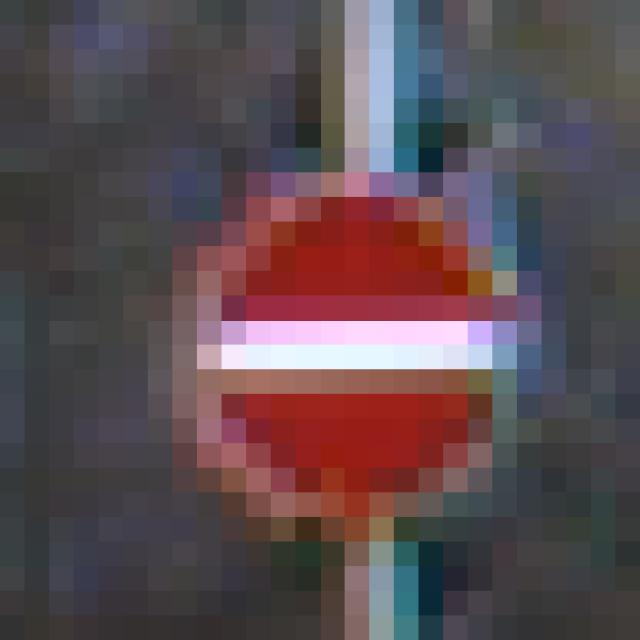No Entry: (124, 124, 518, 518)
